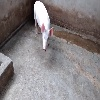heo: (32, 1, 56, 52)
